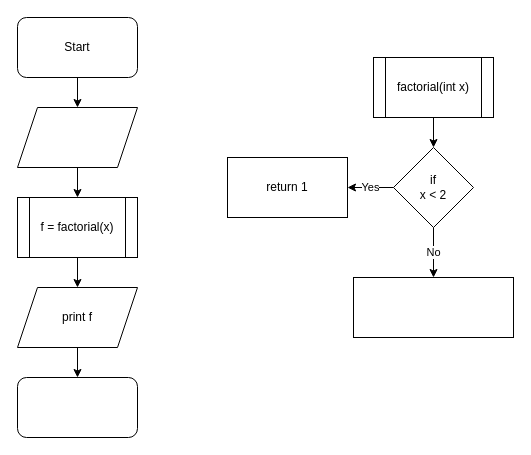
Some shapes in this 531 by 455 pixel diagram are drawn without their labels. Here are the shapes that lost their labels. From the top down, the centre of each, then its label:
At point (77, 137): "input int x".
At point (433, 307): "return x * factorial(x-1)".
At point (77, 407): "Stop".
